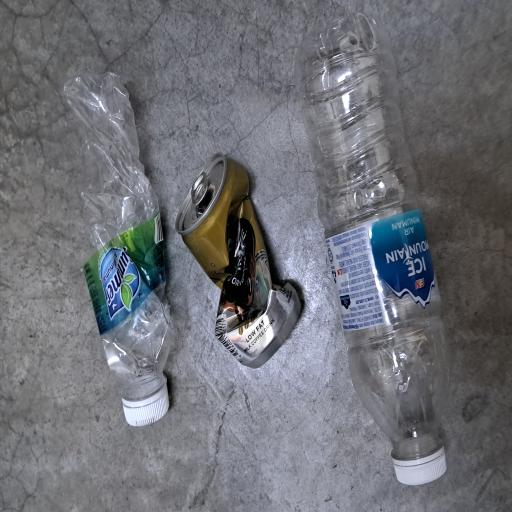can: (106, 234, 268, 408)
plastic bottle: (47, 398, 375, 512), (93, 77, 334, 230)
plastic bottle cap: (64, 160, 97, 228)
pop tab: (228, 254, 256, 279)
